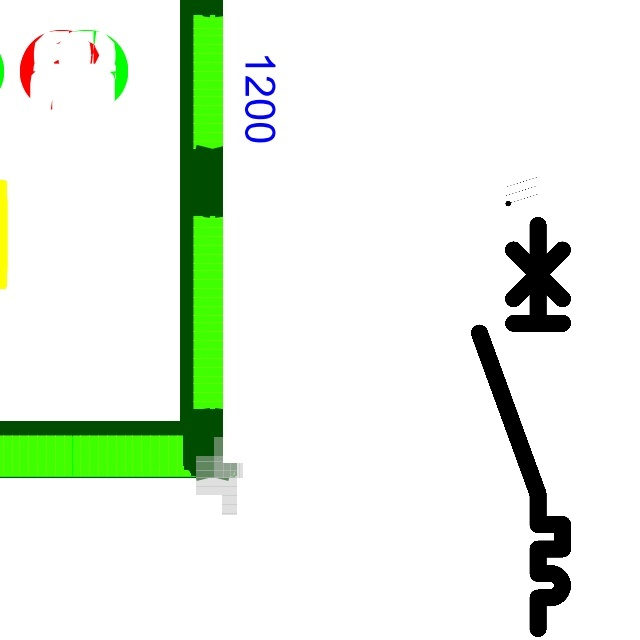interruptor_termomagnetico: (469, 214, 573, 638)
